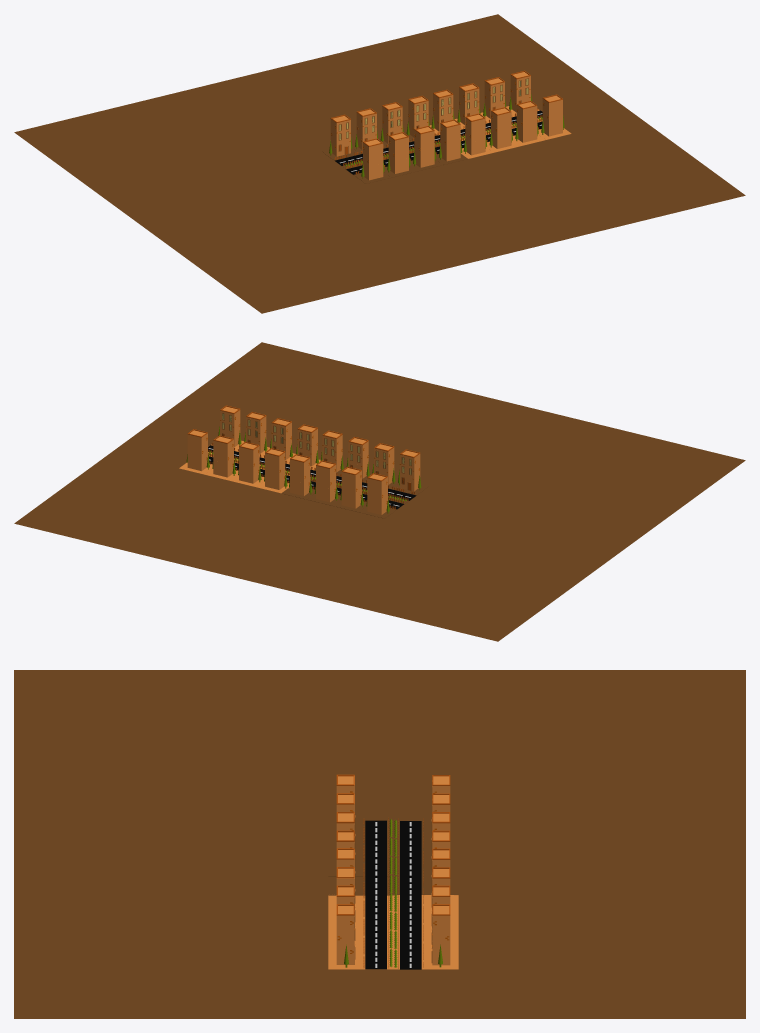
The model's file is buildings.glb.
The picture shows the model from 3 angles, top to bottom: view 1: azimuth 30°, elevation 25°; view 2: azimuth 150°, elevation 25°; view 3: azimuth 270°, elevation 25°; orthographic projection. The views are drawn at different scales.
Visible parts, largest first — view 1: Cube.704, Cube.1054, Cube.353, Cube.485, Cube.441, Cube.879, Cube.923, Cube.397, Cube.1011, Cube.967, Cube.835, Cube.794 (+6 smaller); view 2: Cube.704, Cube.1054, Cube.750, Cube.221, Cube.002, Cube.706, Cube.177, Cube.089, Cube.794, Cube.835, Cube.923, Cube.485 (+4 smaller); view 3: Cube.704, Cube.1054, Cube.177, Cube.397, Cube.396, Cube.176.
Part boxes in pixels (x1,y1,x2,y2): Cube.704: (117,14,745,288); Cube.1054: (14,39,619,313); Cube.353: (516,102,537,142); Cube.485: (491,108,511,148); Cube.441: (465,114,485,154); Cube.879: (414,127,434,167); Cube.923: (440,120,460,161); Cube.397: (542,95,562,136); Cube.1011: (388,133,408,173); Cube.967: (363,139,383,179); Cube.835: (382,103,402,143); Cube.794: (408,97,428,137); Cube.704: (14,342,641,616); Cube.1054: (123,367,745,641); Cube.750: (367,474,387,514); Cube.221: (213,436,233,477); Cube.002: (239,443,259,483); Cube.706: (341,468,361,508); Cube.177: (187,430,207,471); Cube.089: (265,449,285,489); Cube.794: (290,455,310,495); Cube.835: (316,461,336,502); Cube.923: (322,431,342,472); Cube.485: (271,419,291,459); Cube.704: (14,744,745,1018); Cube.1054: (14,670,745,944); Cube.177: (432,906,450,965); Cube.397: (336,906,354,964); Cube.396: (328,950,393,969); Cube.176: (393,950,458,969).
Bounding box in the file's own units: 1362 × 93.41 × 1208.
